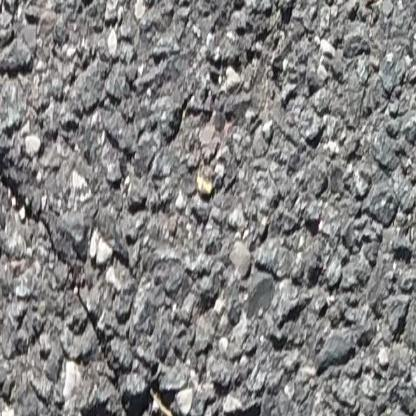Cracks: (0, 146, 326, 416)
